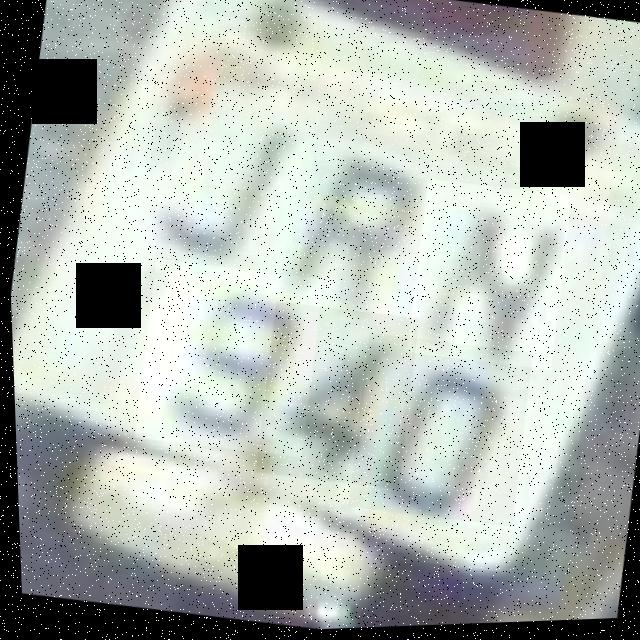0: (339, 331, 535, 535)
3: (126, 255, 326, 465)
4: (247, 299, 422, 497)
J: (112, 79, 325, 296)
N: (400, 178, 575, 379)
R: (255, 131, 443, 339)
